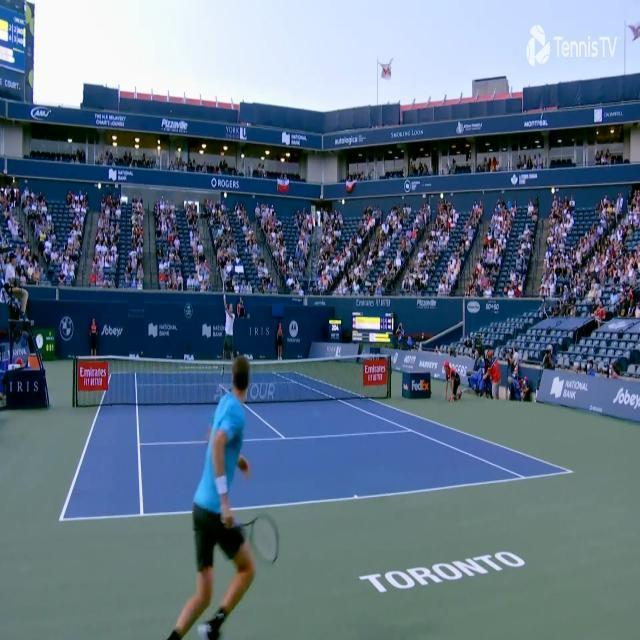court: (58, 370, 574, 523)
net: (70, 350, 393, 400)
player: (167, 355, 280, 640)
